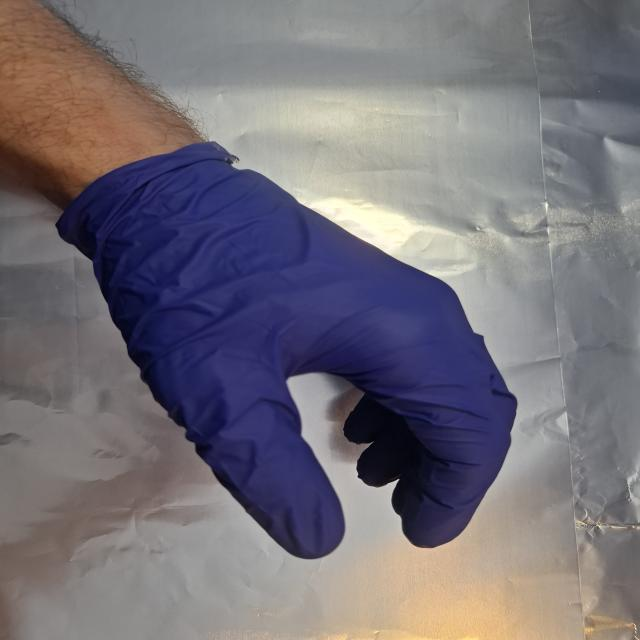glove_on: (93, 143, 523, 564)
